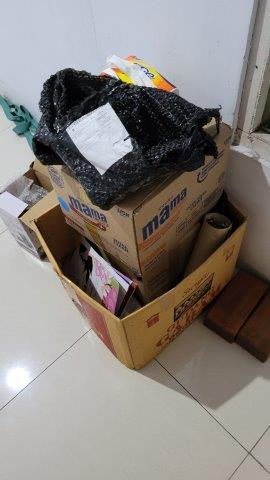kertas: (64, 102, 135, 178)
